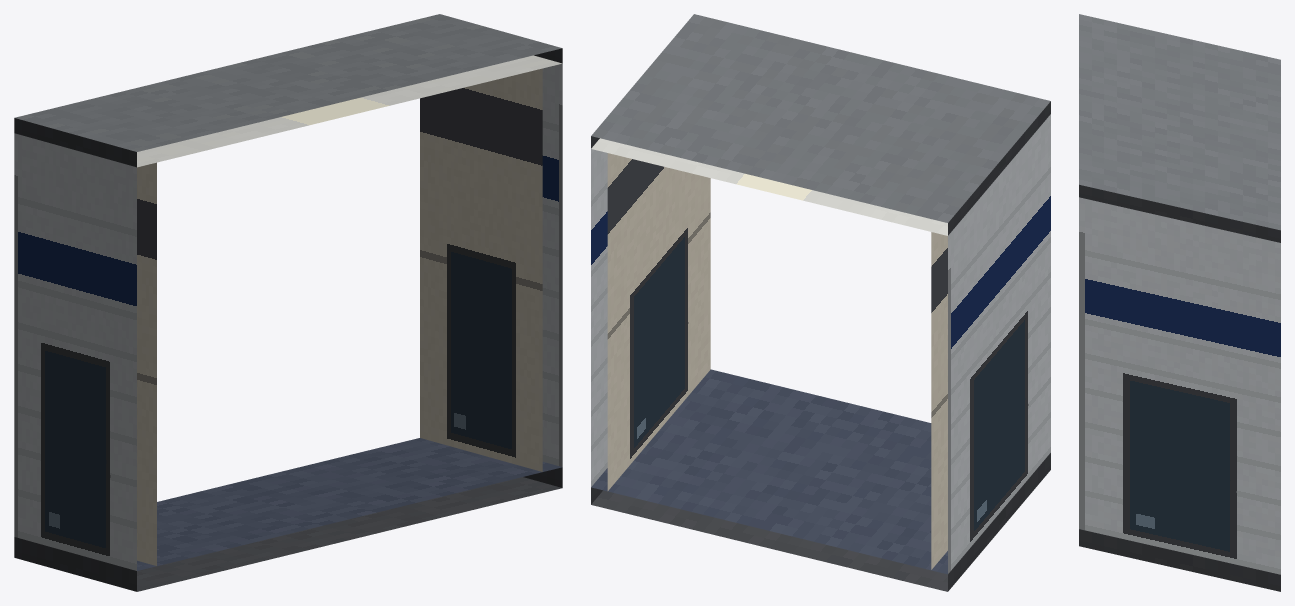
Rendered from airport_jet_bridge_slope_4_0_body.obj.
3 views of the same model, side by side, from view 1: azimuth 30°, elevation 25°; view 2: azimuth 150°, elevation 25°; view 3: azimuth 270°, elevation 25° (orthographic). The views are drawn at different scales.
Parts seen in each view (by area): view 1: airport_jet_bridge_slope_4_0_body; view 2: airport_jet_bridge_slope_4_0_body; view 3: airport_jet_bridge_slope_4_0_body.
Part boxes in pixels (left/top/right/bottom): airport_jet_bridge_slope_4_0_body: left=14, top=14, right=562, bottom=591; airport_jet_bridge_slope_4_0_body: left=591, top=14, right=1050, bottom=591; airport_jet_bridge_slope_4_0_body: left=1079, top=14, right=1280, bottom=591.
Bounding box in the file's own units: 2 × 2.23 × 1.
